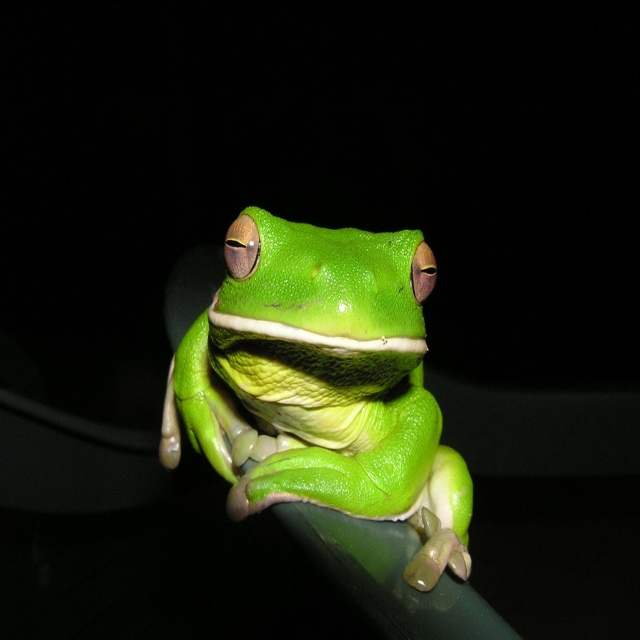Frog: (158, 203, 474, 594)
